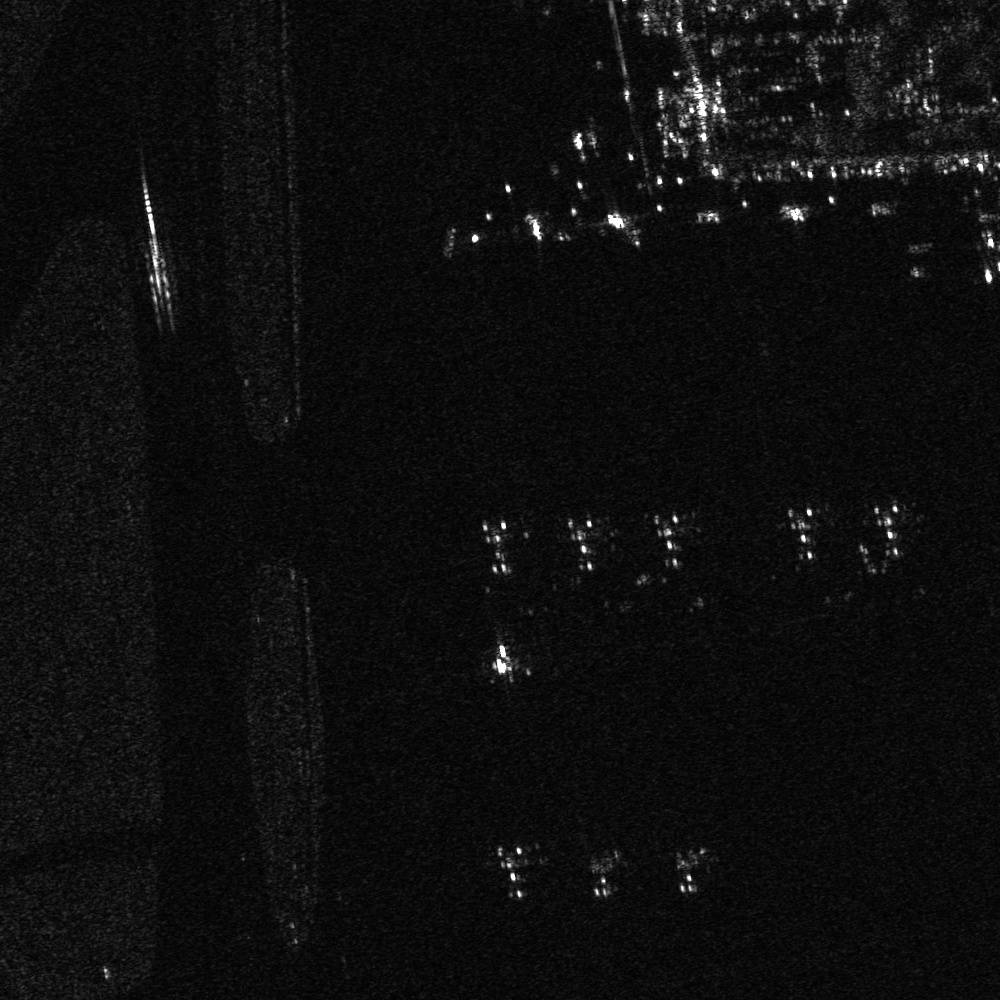A220: (584, 847, 634, 901)
A320/321: (669, 844, 716, 899)
ARJ21: (479, 842, 549, 901), (957, 207, 999, 293), (471, 641, 537, 684)
other: (547, 505, 629, 583), (637, 505, 716, 580), (851, 494, 931, 568), (461, 508, 536, 579), (773, 496, 835, 568)
